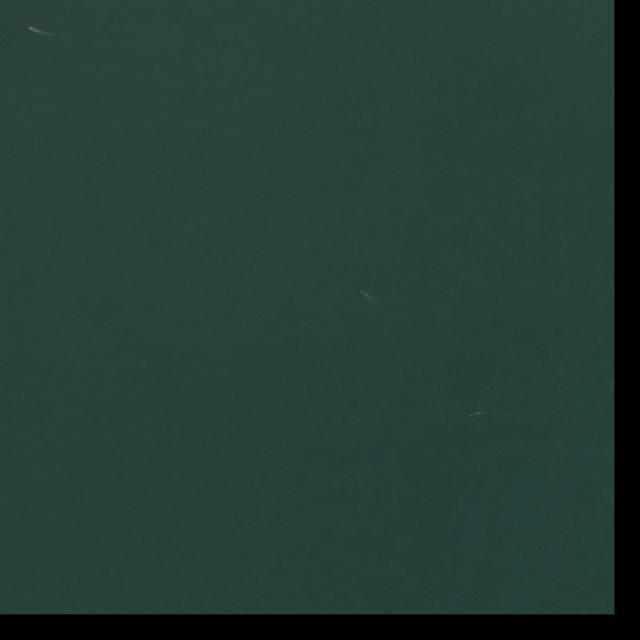ship: (359, 289, 367, 297), (29, 26, 36, 32), (469, 413, 475, 418)
